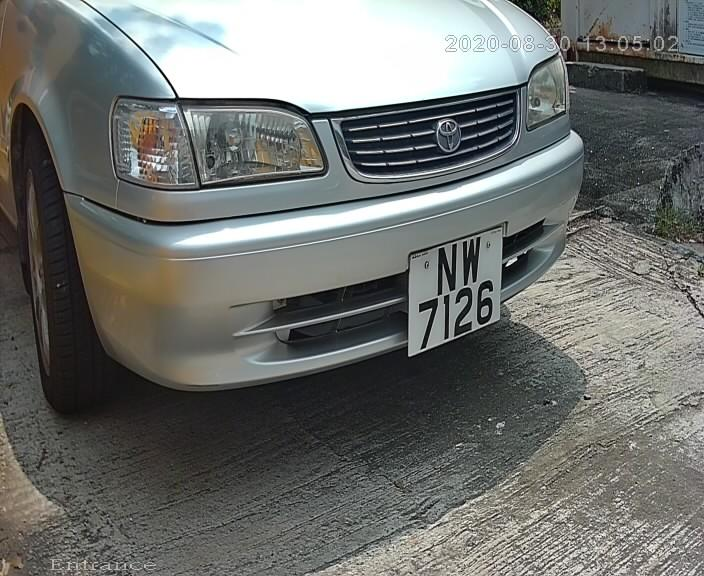License Plate: (400, 222, 516, 363)
